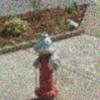a fire hydrant: (33, 34, 60, 100)
